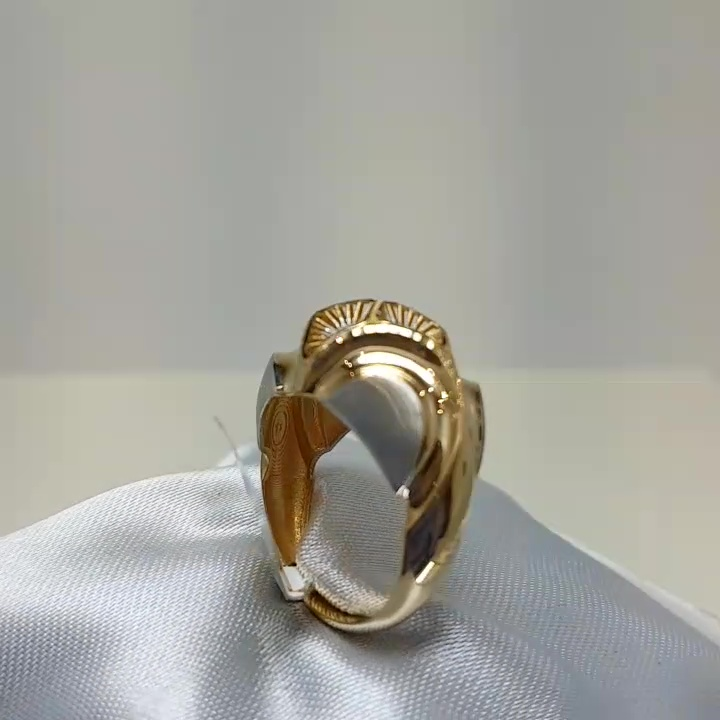Ring 2: (194, 281, 510, 638)
